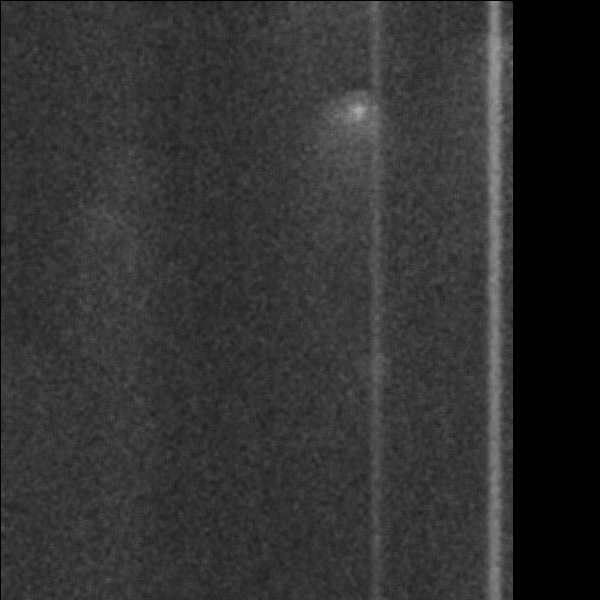spark: (208, 61, 261, 120), (99, 38, 168, 76), (100, 410, 173, 440), (11, 572, 76, 600), (12, 219, 68, 249), (6, 356, 31, 398), (28, 391, 69, 415), (419, 512, 447, 533)
